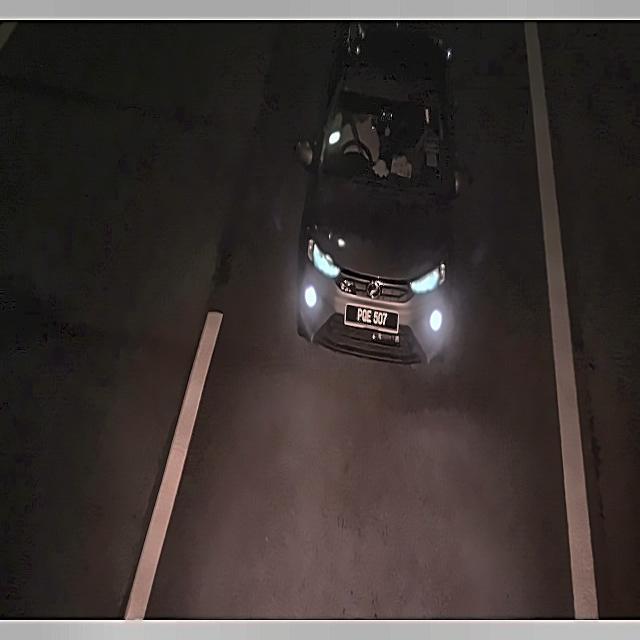car: (341, 298, 407, 341)
